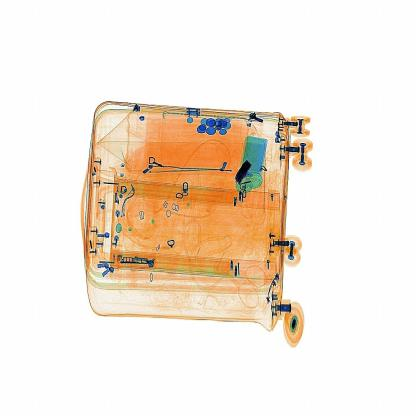scissors: (234, 157, 263, 202)
